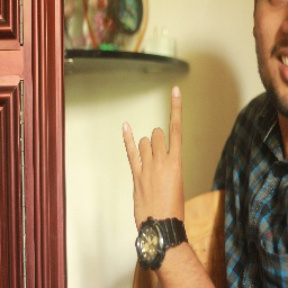V: (118, 85, 195, 231)
